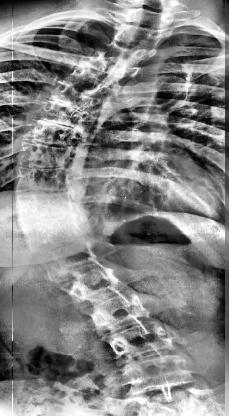Vertebrae: (91, 286, 158, 338), (66, 262, 130, 314), (107, 320, 185, 360), (119, 355, 198, 391), (36, 245, 100, 283), (17, 221, 89, 253), (32, 97, 86, 131), (19, 140, 76, 172), (25, 118, 82, 150), (14, 193, 76, 221), (16, 165, 72, 193), (49, 82, 95, 110), (115, 26, 163, 48), (88, 51, 128, 77), (99, 42, 148, 63), (65, 69, 104, 93)
